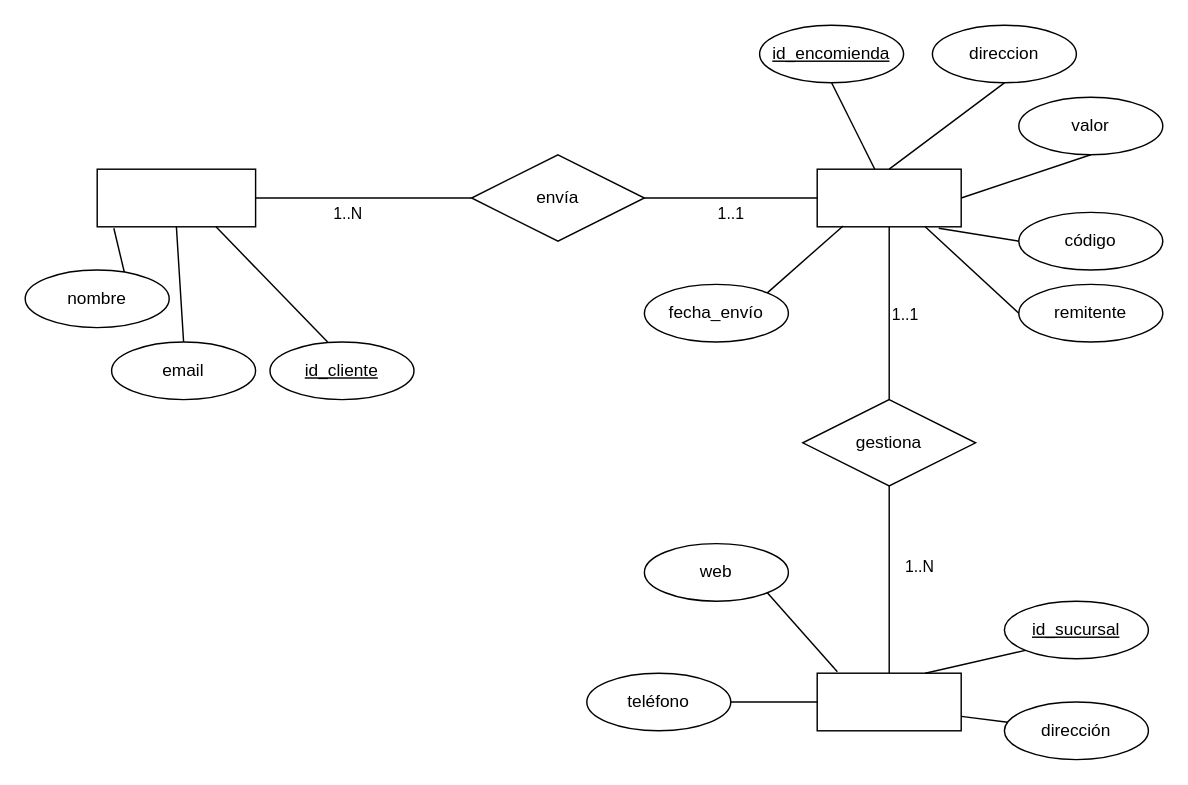
The diagram is 1188 pixels wide and 785 high, and some of its shapes have lost their labels. The shapes that lost their labels are listed below. From the top down, each one's box as (x1, y1, x2, y2) in pixels, then its label:
(96, 168, 256, 227): Cliente
(816, 168, 961, 227): Encomienda
(816, 672, 961, 731): Sucursal
